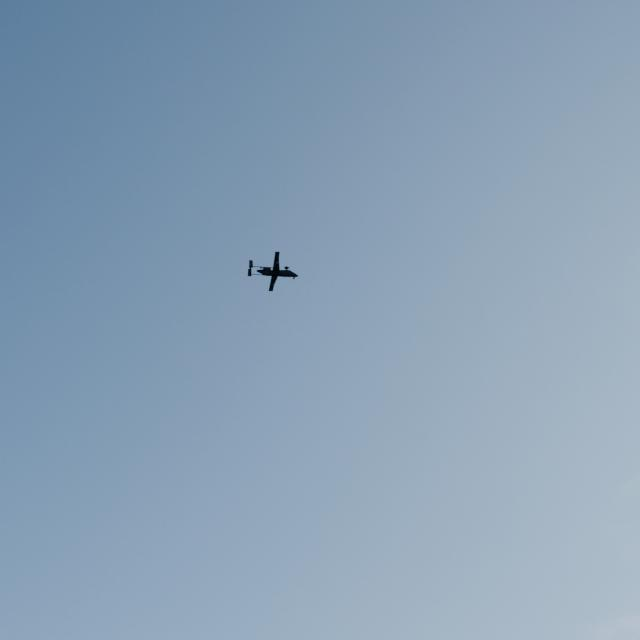Airaplan: (248, 251, 299, 291)
